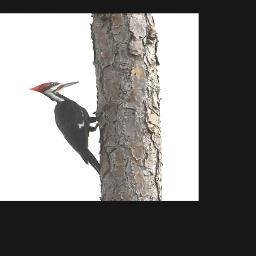Woodpecker: (27, 81, 100, 177)
